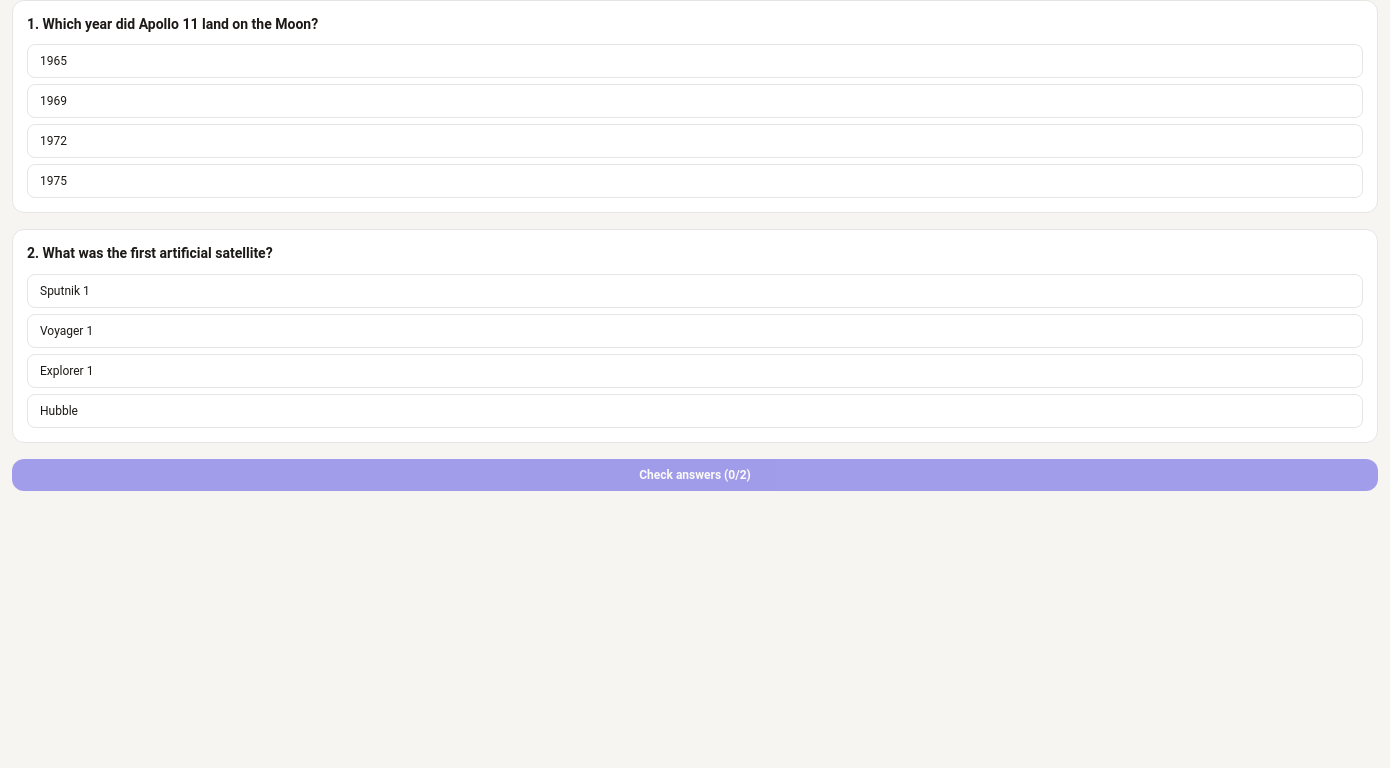
Test: QuizRenderer › grades selected answers, computes score, and reveals explanations
Check: the button "Check answers (0/2)" is disabled, box 12,458 -> 1378,490
Click the button "1969": {"x": 53, "y": 101} 27,84 -> 1363,118
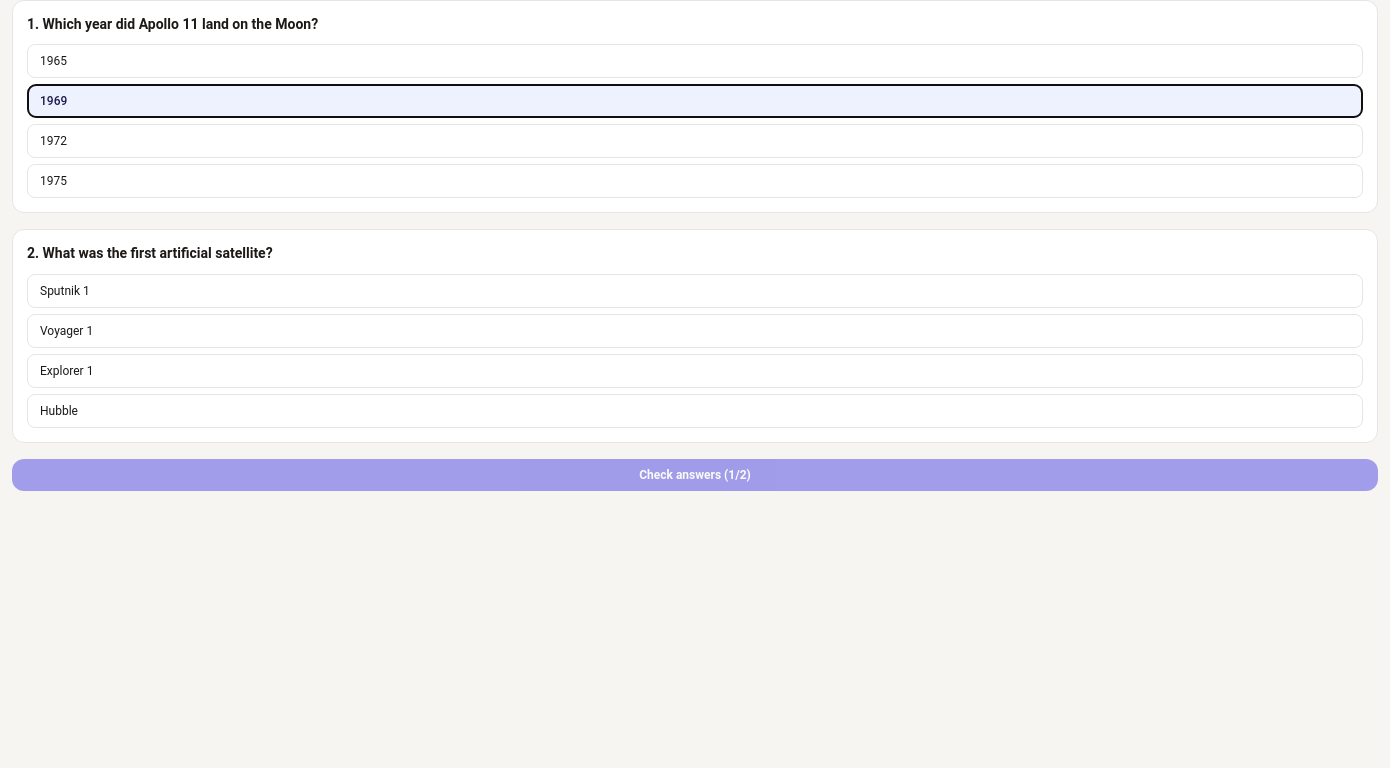
Click the button "Voyager 1": {"x": 67, "y": 330} 27,314 -> 1363,348
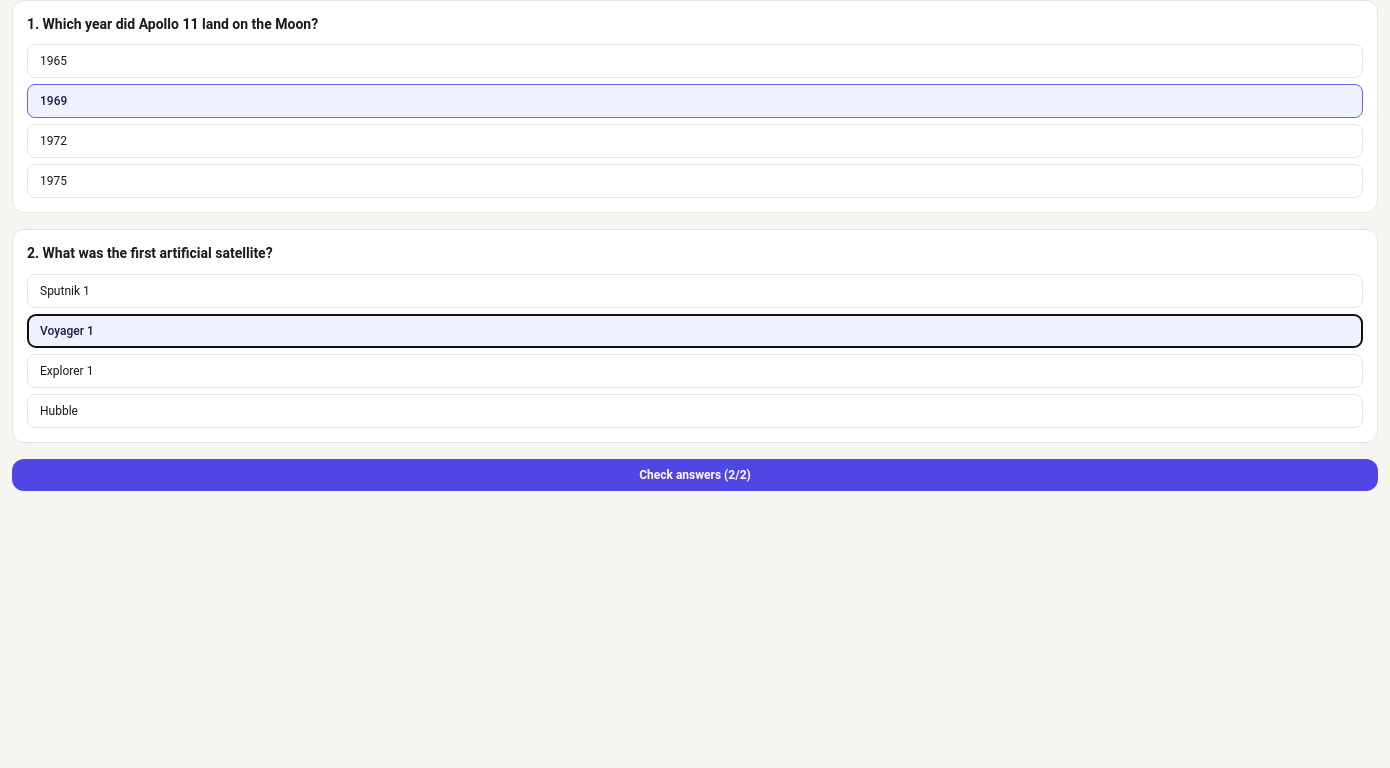
Check: the button "Check answers (2/2)" is enabled
Click the button "Check answers (2/2)": {"x": 695, "y": 474} 12,458 -> 1378,490
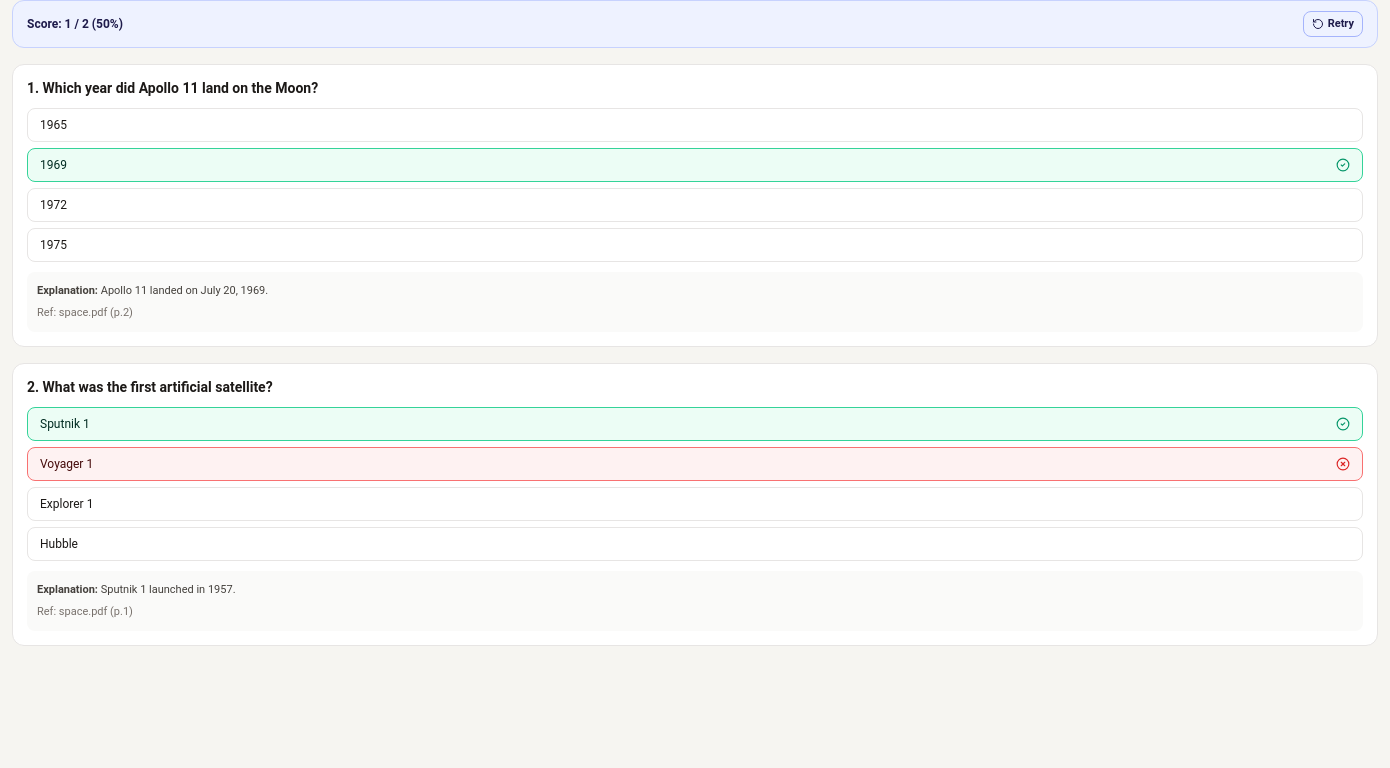
Check: the message shows "Score: 1 / 2 (50%)", box 12,0 -> 1378,48
Check: the text "Explanation: Apollo 11 landed on July 20, 1969." is shown, box 37,284 -> 268,297
Check: the text "Explanation: Sputnik 1 launched in 1957." is shown, box 37,583 -> 236,596
Click the button "Retry": {"x": 1333, "y": 24} 1303,11 -> 1363,37
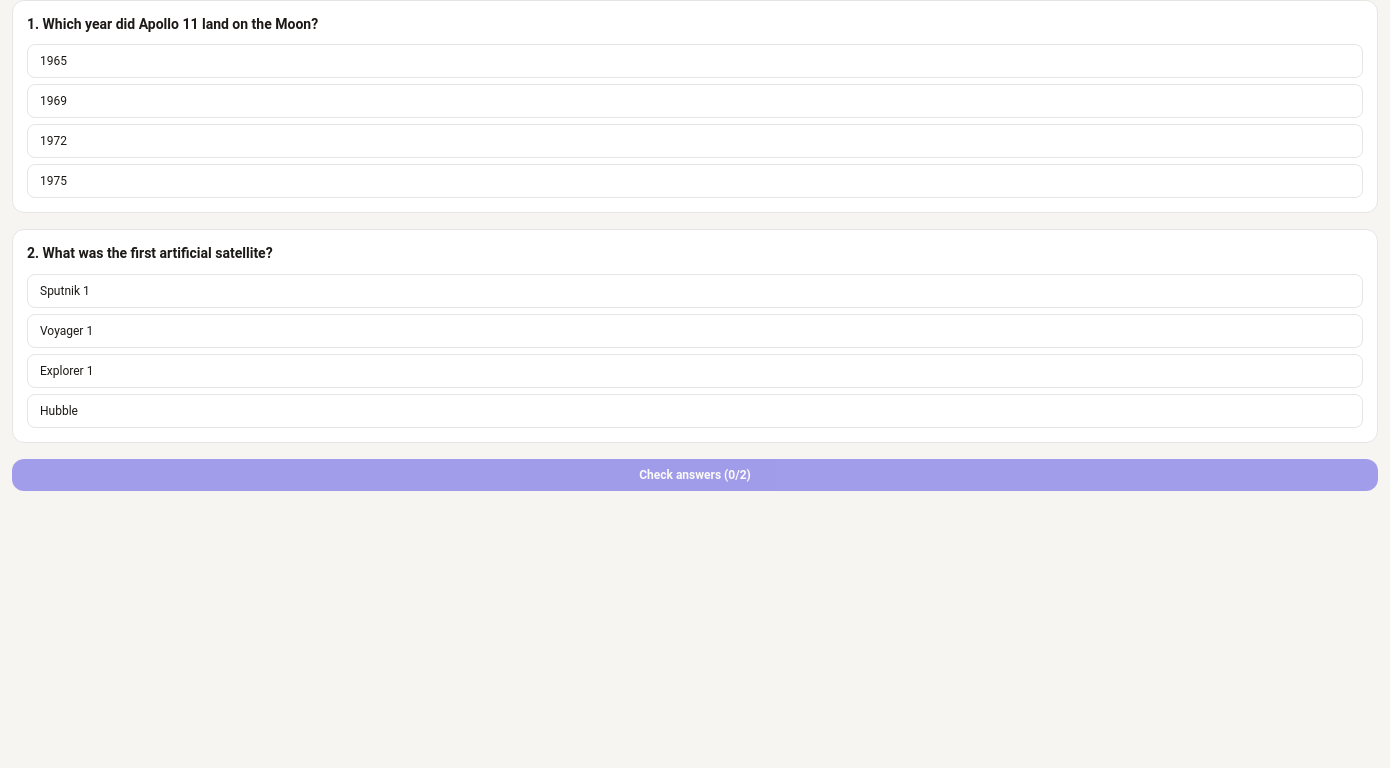
Check: the message "Score: 1 / 2 (50%) Retry" is gone
